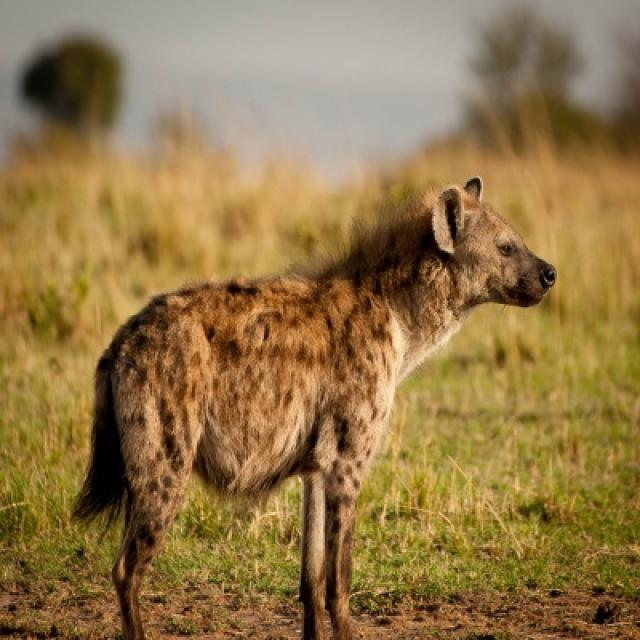hyena: (74, 178, 555, 638)
